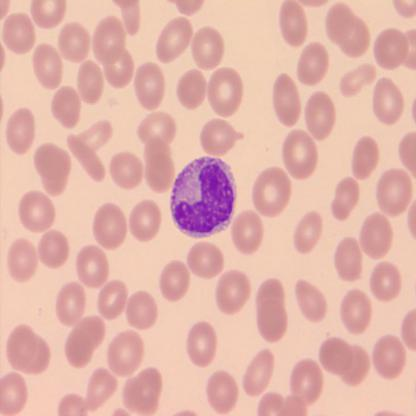Monocyte: (169, 154, 239, 240)
